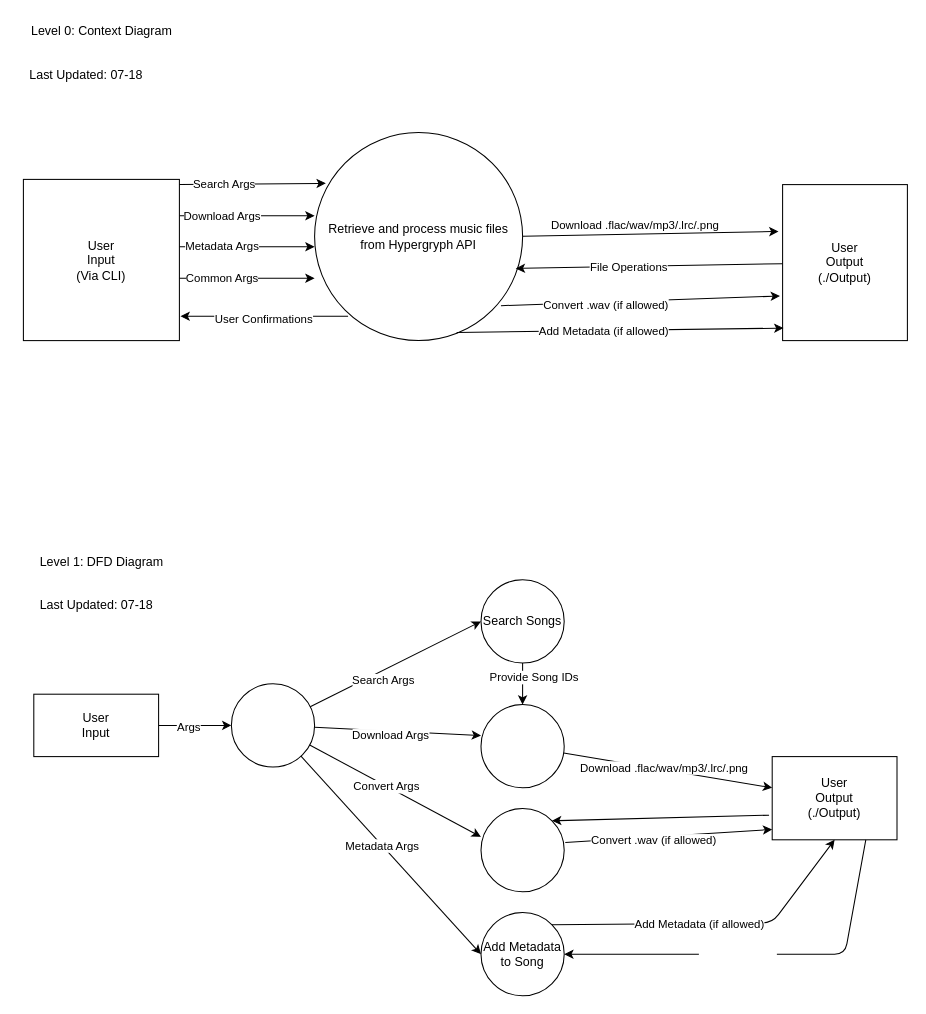
Some shapes in this 926 by 1014 pixel diagram are drawn without their labels. Each missing label, with the centre of its shape:
Convert Songs: the point at 522,850
Download Songs: the point at 522,746
Parse Arguments: the point at 272,725
